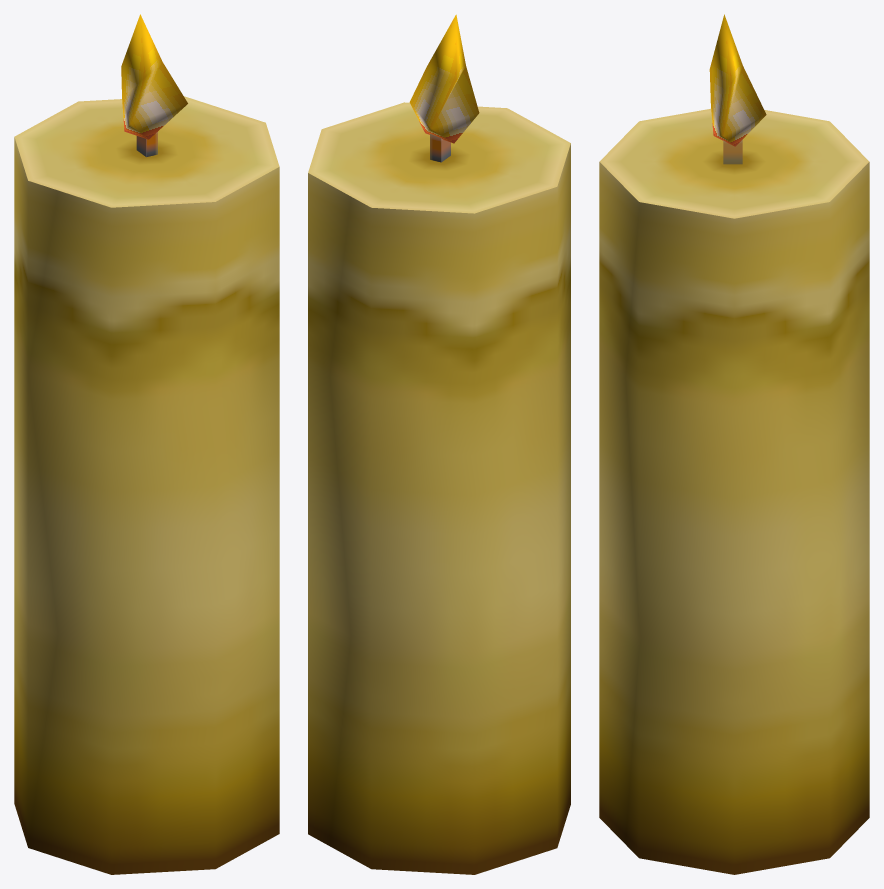
File: INST_BE_CANDLE.fbx
3 renders of one model, left to right at view 1: azimuth 30°, elevation 25°; view 2: azimuth 150°, elevation 25°; view 3: azimuth 270°, elevation 25°, orthographic.
Visible parts, largest first — view 1: INST_BE_CANDLE; view 2: INST_BE_CANDLE; view 3: INST_BE_CANDLE.
Boxes of the visible parts, <box> form: INST_BE_CANDLE: <box>14,14,279,874</box>; INST_BE_CANDLE: <box>308,14,570,874</box>; INST_BE_CANDLE: <box>599,14,869,874</box>.
Size of the model in its own units: 983 by 3205 by 983.
2 materials, 2 textured.
